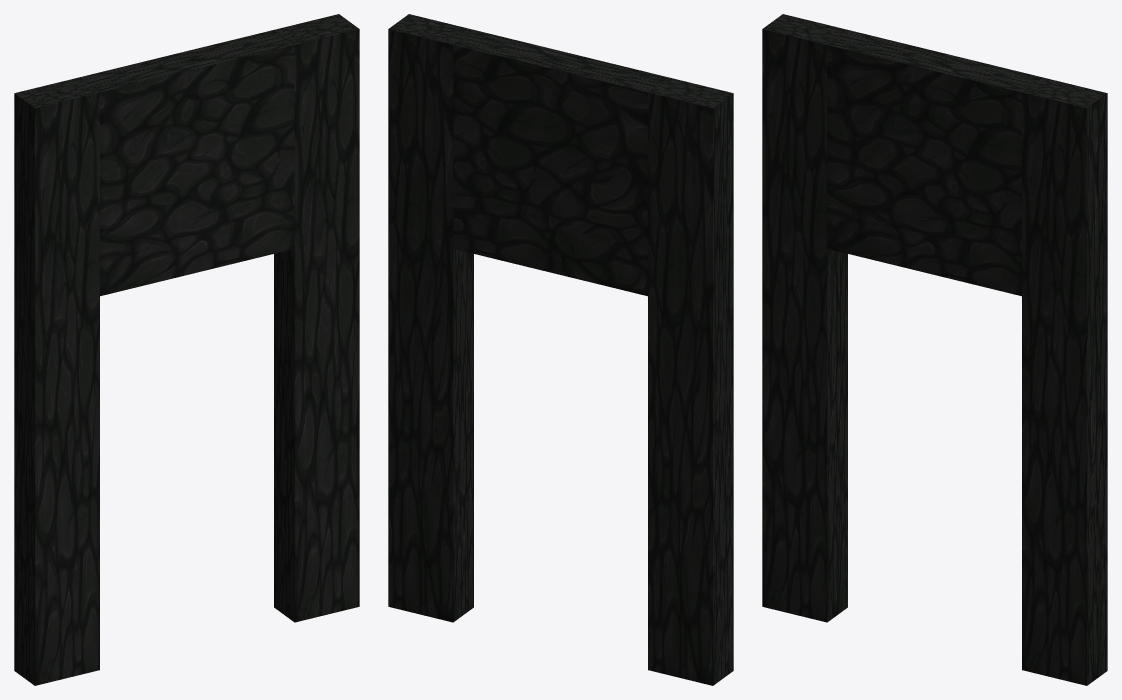
The model's file is stone_wall_door_2m.glb.
3 views of the same model, side by side, from view 1: azimuth 30°, elevation 25°; view 2: azimuth 150°, elevation 25°; view 3: azimuth 330°, elevation 25° (orthographic).
Parts seen in each view (by area): view 1: stone_wall_door_2m, _MeshInstance3D_2543, _MeshInstance3D_2546; view 2: stone_wall_door_2m, _MeshInstance3D_2543, _MeshInstance3D_2546; view 3: _MeshInstance3D_2543, stone_wall_door_2m, _MeshInstance3D_2546.
Boxes of the visible parts, bbox=[...] form: stone_wall_door_2m: bbox=[14, 77, 99, 685]; _MeshInstance3D_2543: bbox=[274, 14, 359, 622]; _MeshInstance3D_2546: bbox=[79, 30, 294, 296]; stone_wall_door_2m: bbox=[648, 77, 733, 685]; _MeshInstance3D_2543: bbox=[388, 14, 473, 622]; _MeshInstance3D_2546: bbox=[453, 30, 668, 296]; _MeshInstance3D_2543: bbox=[1022, 77, 1107, 685]; stone_wall_door_2m: bbox=[762, 14, 847, 622]; _MeshInstance3D_2546: bbox=[827, 30, 1042, 296].
Size of the model in its own units: 2 by 3.4 by 0.22.
Materials: 1 (1 with a texture image).
